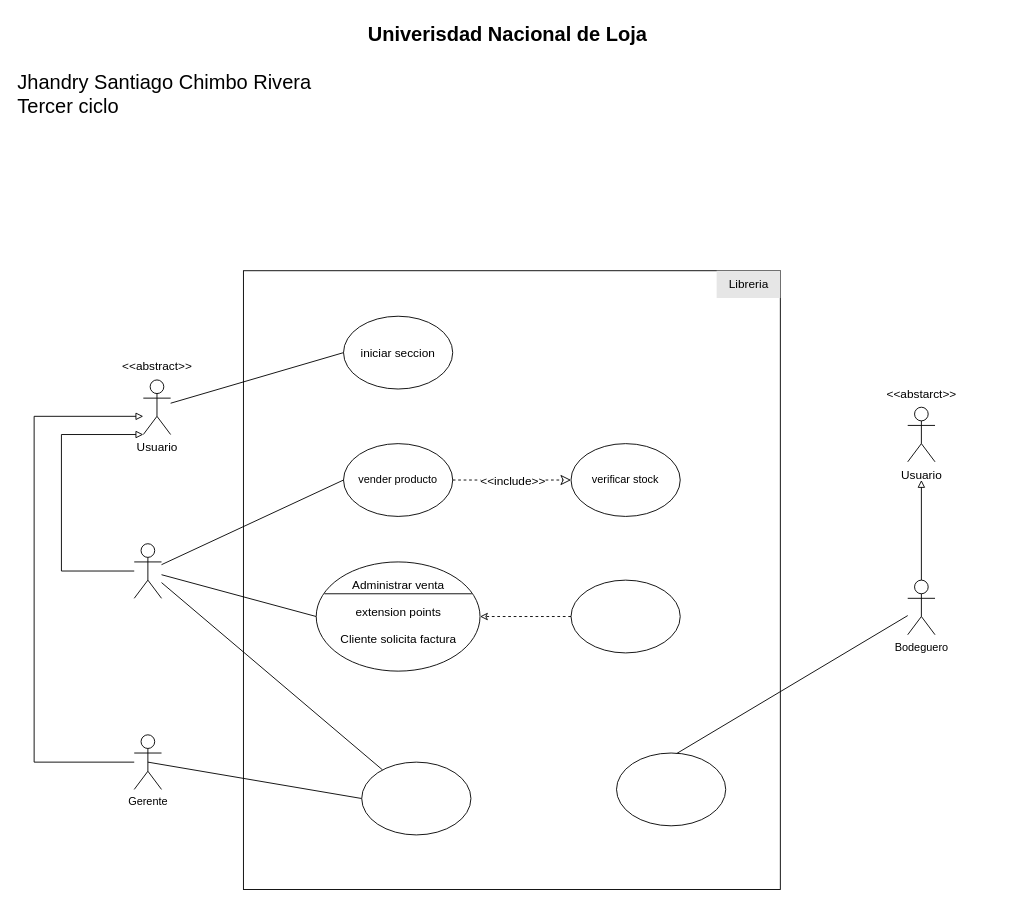
Some shapes in this 1032 by 905 pixel diagram are drawn without their labels. The shapes that lost their labels are listed below. From the top down, each one's box as (x1, y1, x2, y2) in pixels, then its label:
(133, 543, 162, 598): Vendedor
(570, 579, 680, 653): generar factura
(361, 761, 471, 835): genera informe
(616, 752, 726, 826): <<CRUD>> Gestiona Prodcutos
